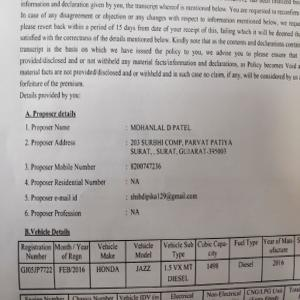table: (19, 230, 300, 287)
text: (20, 2, 300, 100), (23, 109, 236, 218)
